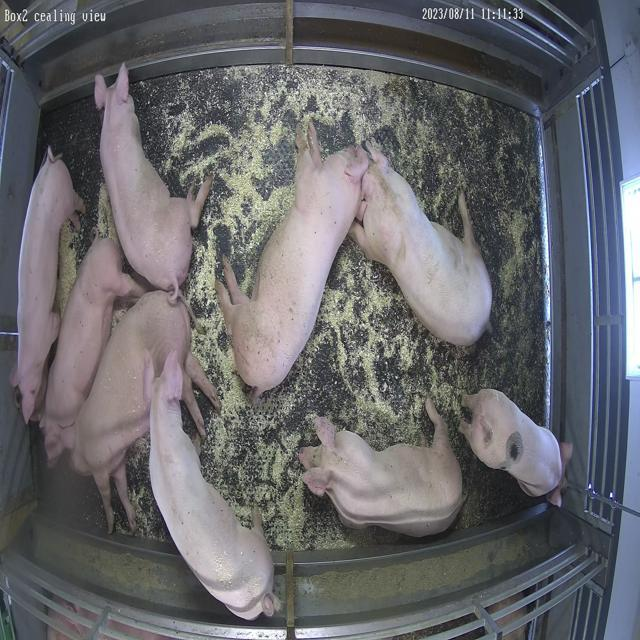Dirt: (390, 75, 548, 424), (452, 428, 531, 528)
Pig: (216, 123, 369, 398), (61, 291, 219, 532), (149, 353, 276, 621), (351, 144, 493, 346), (94, 64, 212, 296), (39, 237, 144, 464), (300, 401, 464, 538), (16, 150, 81, 422), (460, 390, 571, 506)
